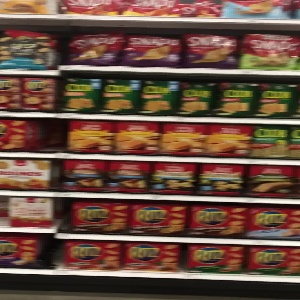void: (28, 115, 69, 153)
